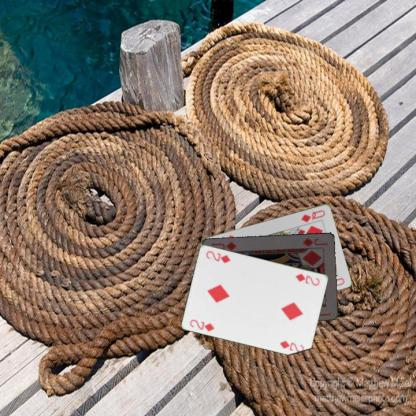2d: (293, 270, 321, 286), (187, 317, 216, 332)
Jd: (300, 235, 329, 247)
Qd: (299, 208, 326, 224)
